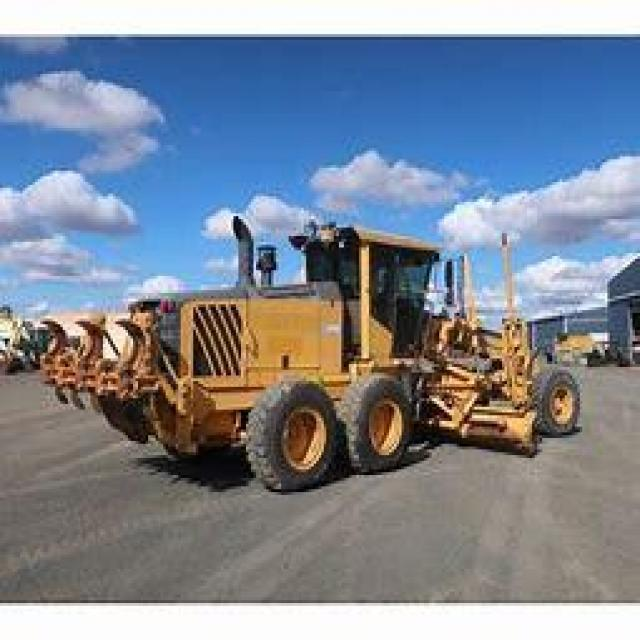Grader: (30, 182, 590, 495)
